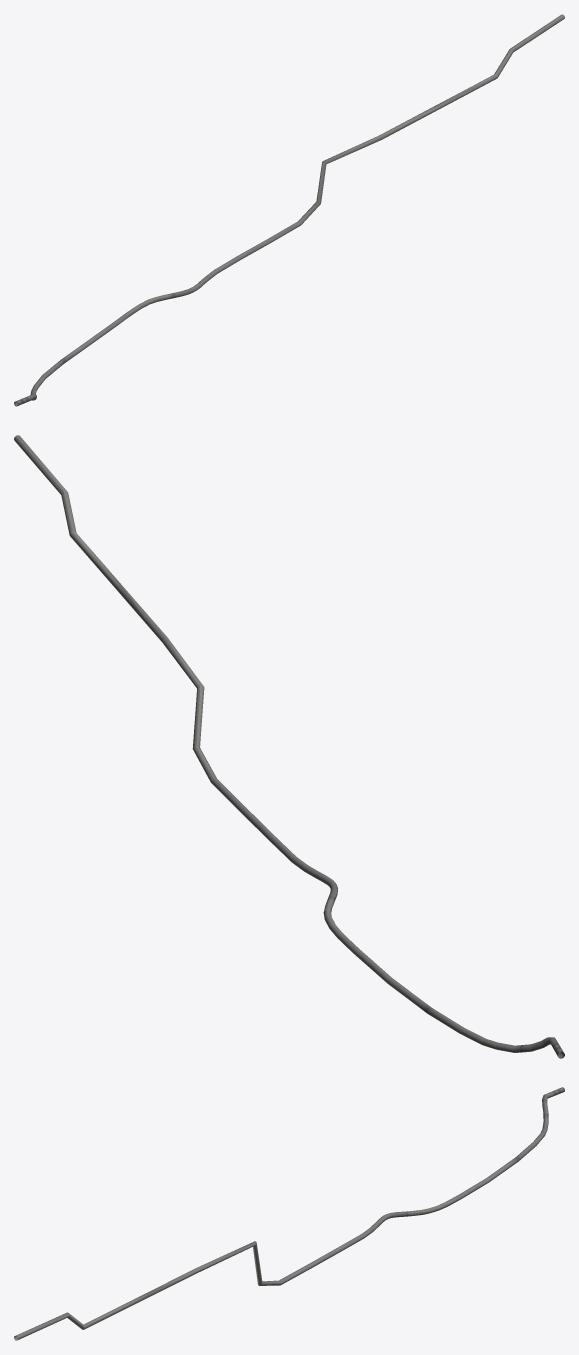
The picture shows the model from 3 angles, top to bottom: view 1: azimuth 90°, elevation 25°; view 2: azimuth 150°, elevation 25°; view 3: azimuth 270°, elevation 25°; orthographic projection. The views are drawn at different scales.
Parts seen in each view (by area): view 1: Cube.009; view 2: Cube.009; view 3: Cube.009.
Part boxes in pixels (x1=…): Cube.009: x1=14, y1=14, x2=564, y2=406; Cube.009: x1=14, y1=435, x2=564, y2=1058; Cube.009: x1=14, y1=1087, x2=564, y2=1340.
Bounding box in the file's own units: 6707 × 861 × 4890.
